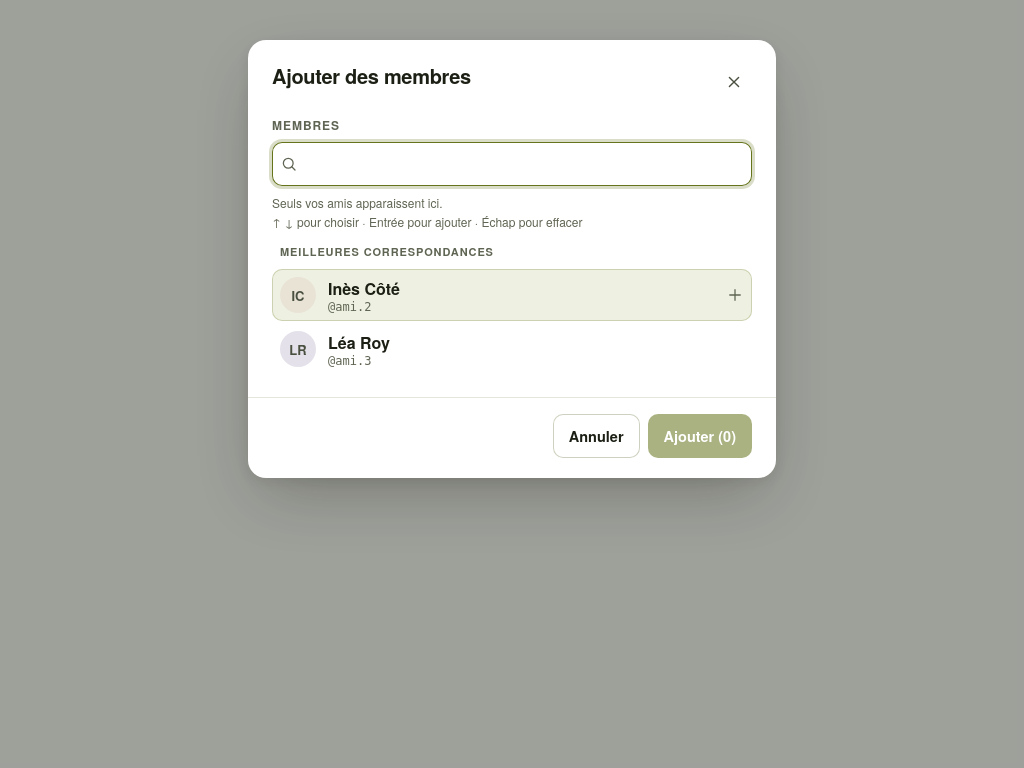
features/add-group-members : Ajouter des membres (GRP-03, GRP-04, ADR 0041) › ADR 0041 (point 4) : {"name":"ApiError","status":403,"code":"NOT_FRIENDS","fields":[],"retryAfterSeconds":null,"requestId":null} s’annonce
Click the option "IC Inès Côté @ami.2": (298, 295) top-left (272, 269), bottom-right (752, 321)
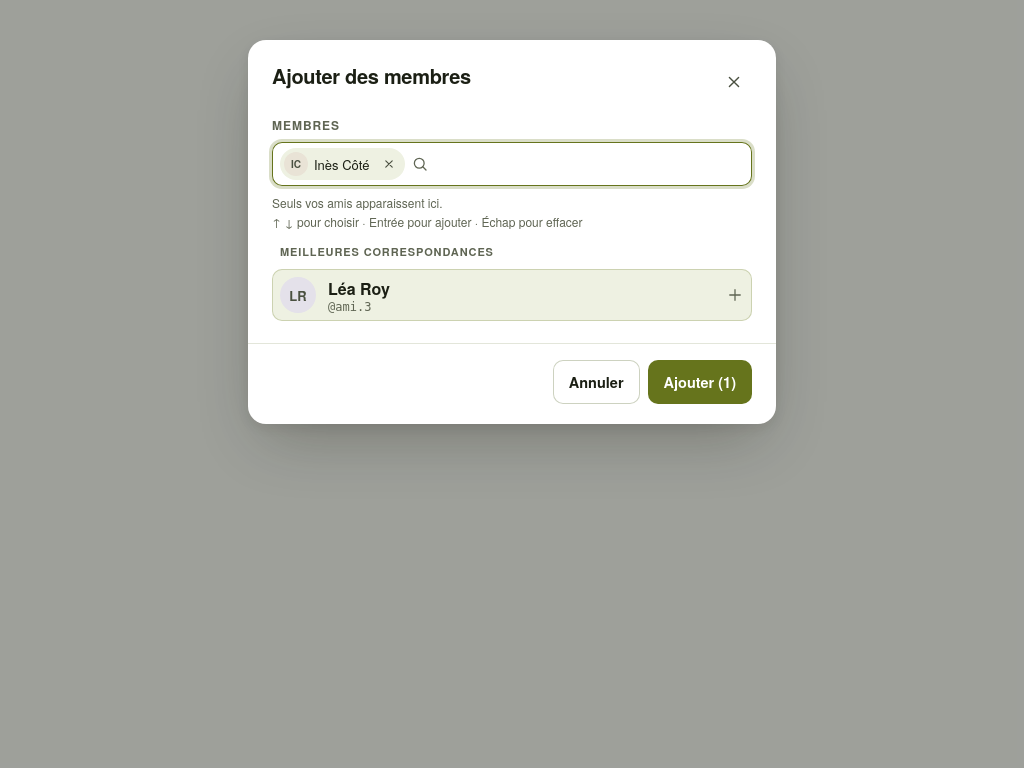
Click the button "Ajouter (1)": (700, 382) top-left (648, 360), bottom-right (752, 404)
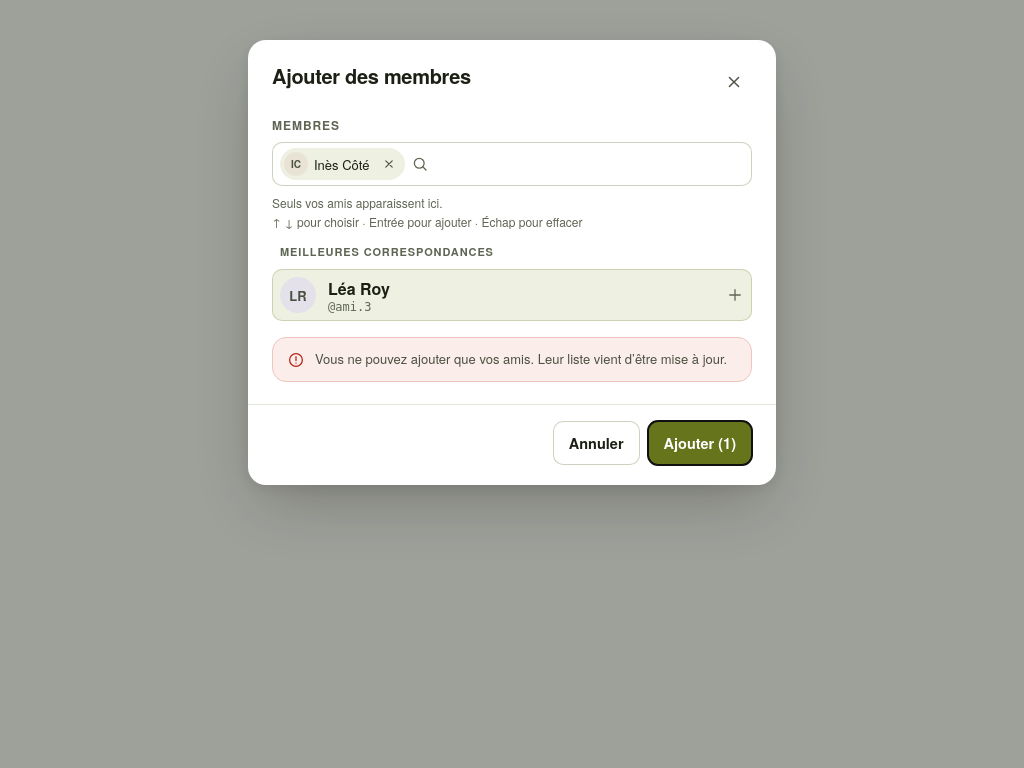
Expected: the message reads "Vous ne pouvez ajouter que vos amis. Leur liste vient d’être mise à jour.", top-left (315, 349), bottom-right (727, 368)
